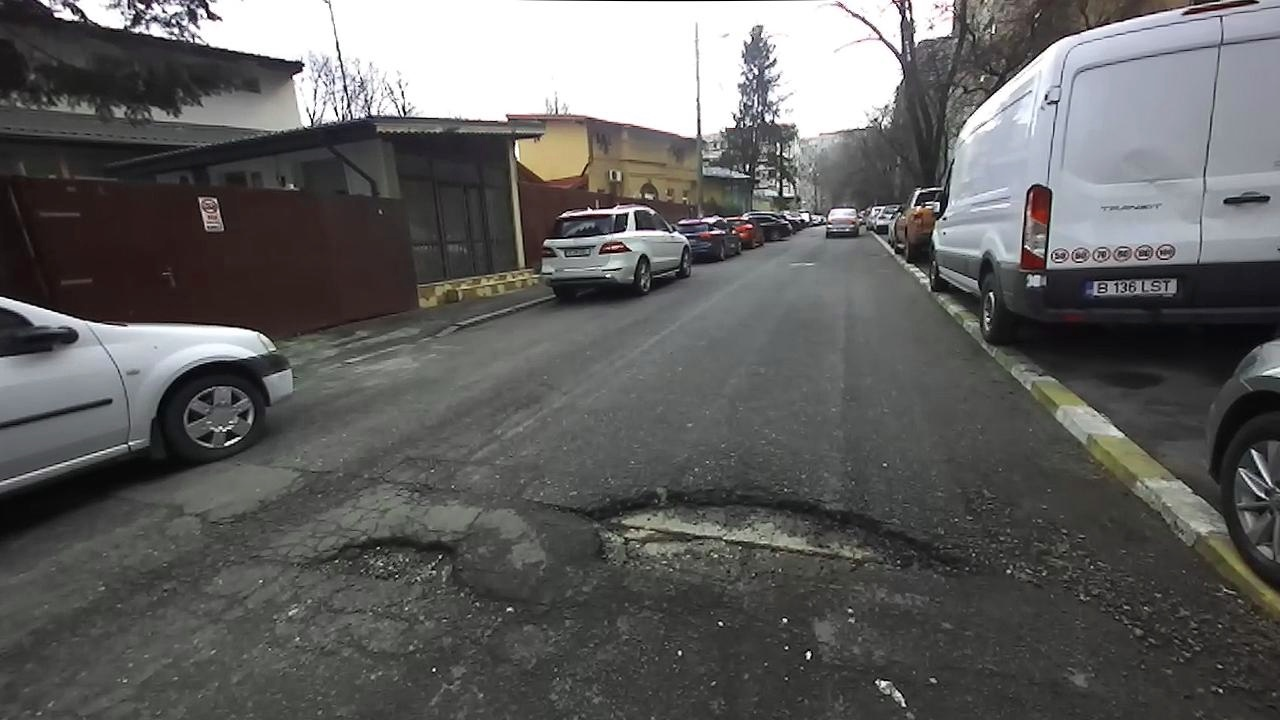pothole: (560, 478, 1004, 606), (294, 526, 489, 611)
